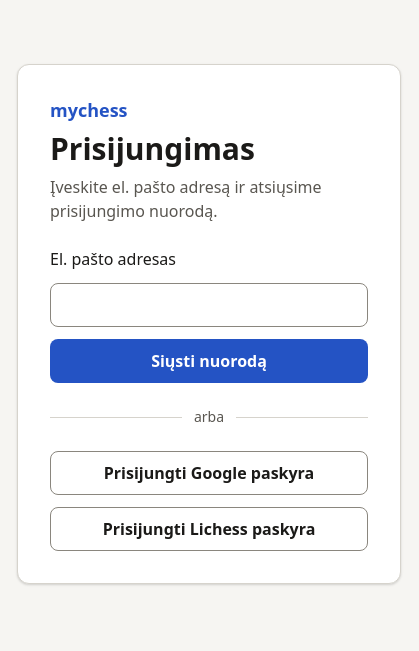
Test: SignInForm › shows the general error when a provider sign-in cannot start
Click the button "Prisijungti Lichess paskyra" at (209, 529), box x1=50 y1=507 x2=368 y2=551
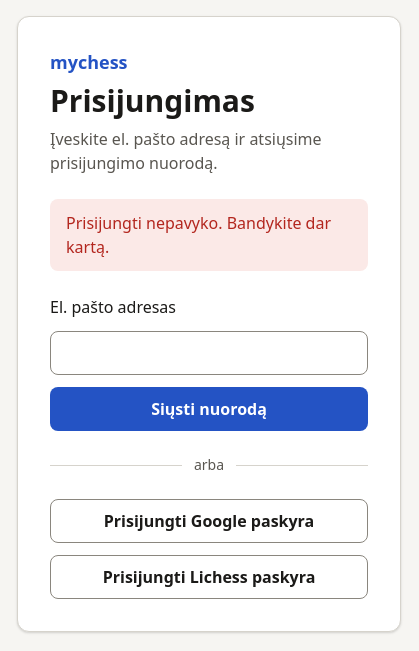
Expected: the message reads "Prisijungti nepavyko. Bandykite dar kartą.", x1=66 y1=212 x2=331 y2=258
